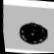correct: (14, 19, 52, 49)
